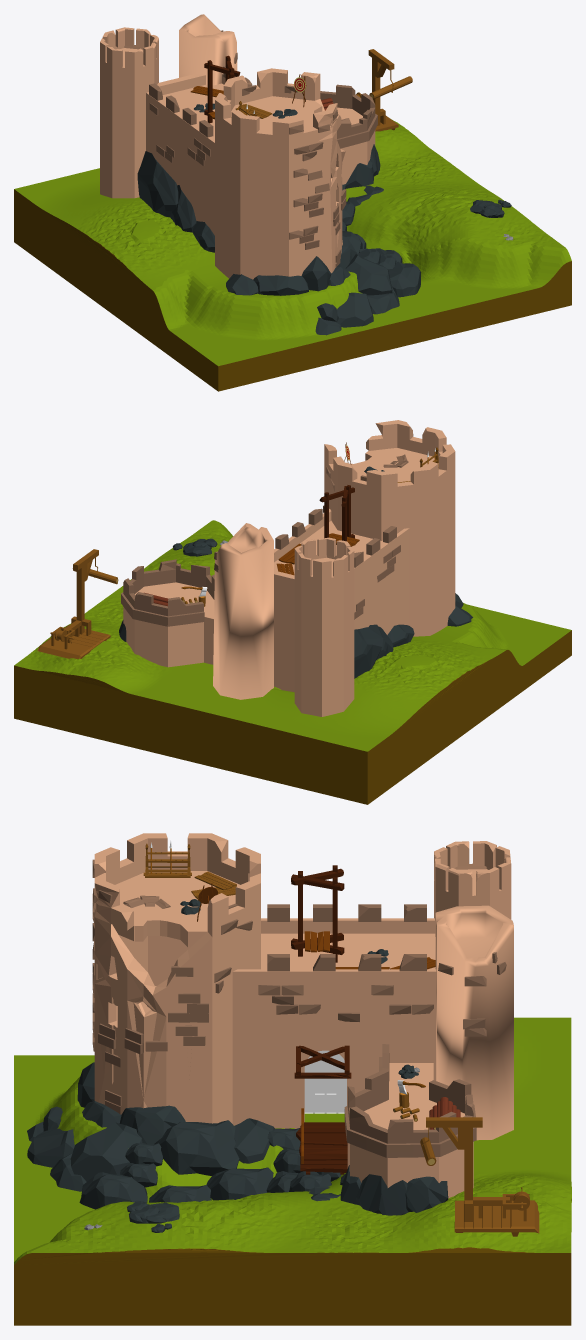
The model's file is low-poly-castle-scene.fbx.
3 views of the same model, one above another, from view 1: azimuth 30°, elevation 25°; view 2: azimuth 150°, elevation 25°; view 3: azimuth 270°, elevation 25° (orthographic). The views are drawn at different scales.
Parts seen in each view (by area): view 1: Cube; view 2: Cube; view 3: Cube.
Part boxes in pixels (left/top/right/bottom): Cube: left=14, top=14, right=571, bottom=391; Cube: left=14, top=420, right=571, bottom=804; Cube: left=14, top=833, right=571, bottom=1325.
Bounding box in the file's own units: 999 × 615 × 1000.
